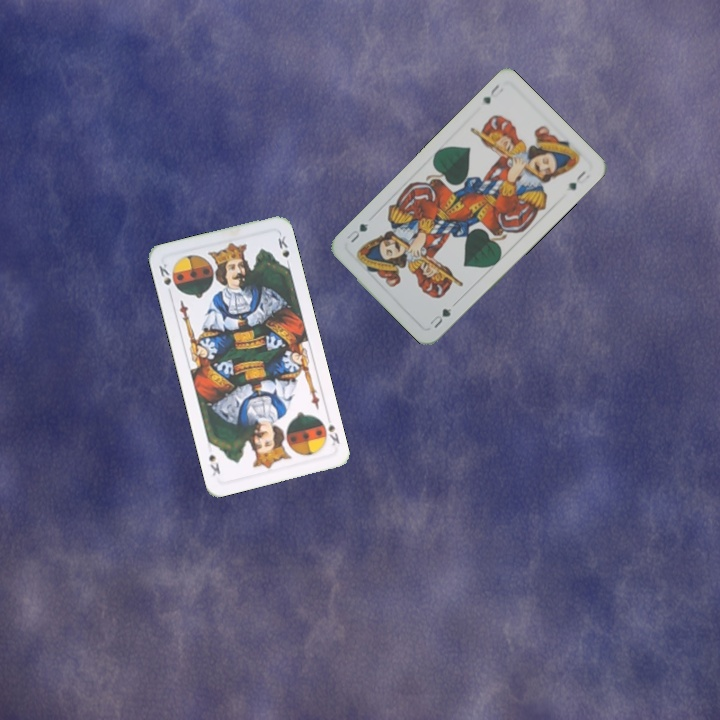GU: (425, 304, 454, 331), (478, 80, 504, 107)
SK: (316, 415, 342, 449), (155, 259, 178, 290)
